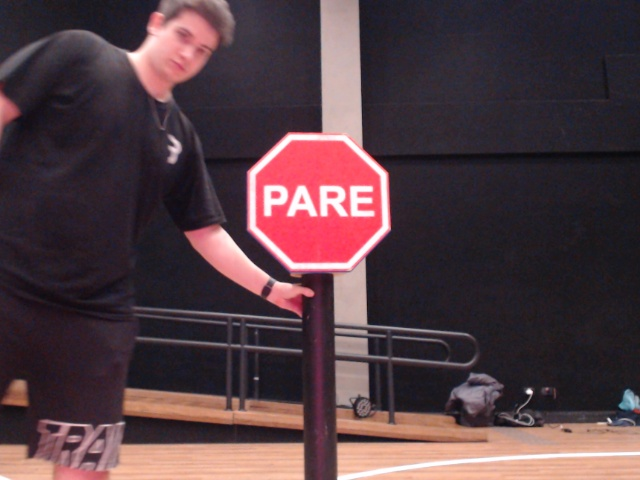SEMAFORO: (188, 99, 459, 348)
